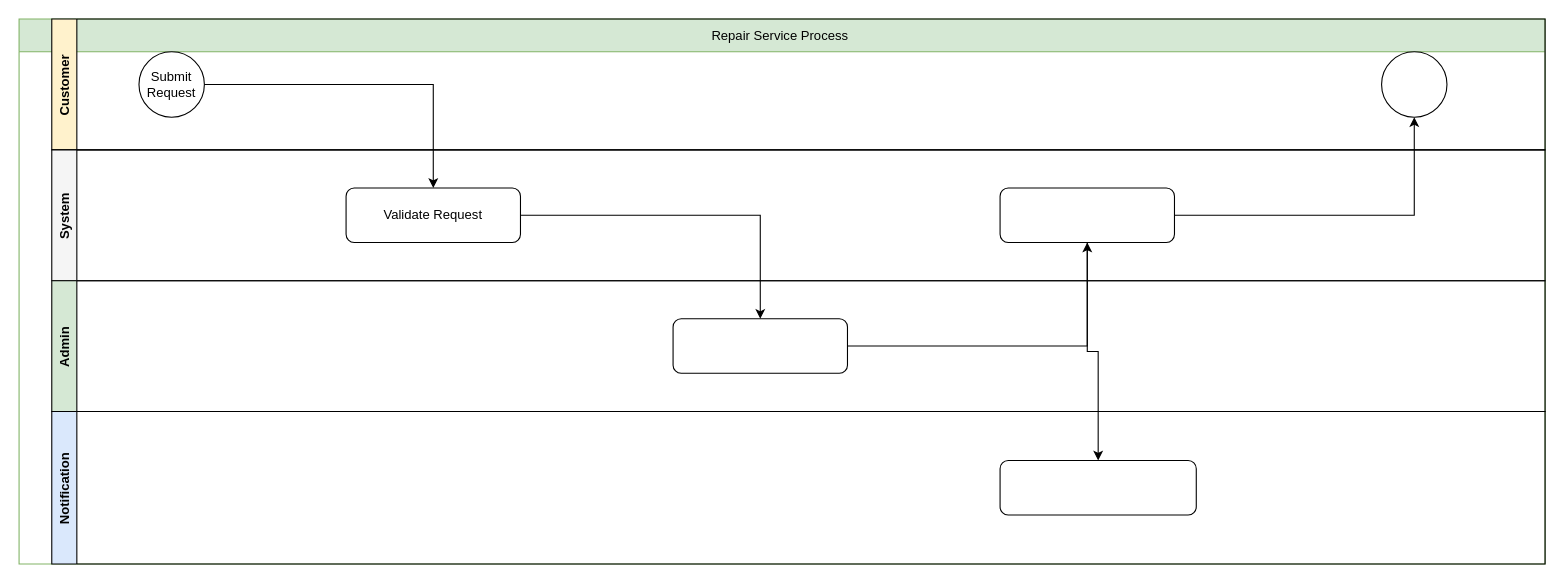
This 1564x583 diagram has some shape labels left out. The centre of each missing label's shape, as x and y in pixels:
Email / Status Update: point 1097,487
Repair Device: point 759,345
Send Notification: point 1086,215
Service Complete: point 1413,84
